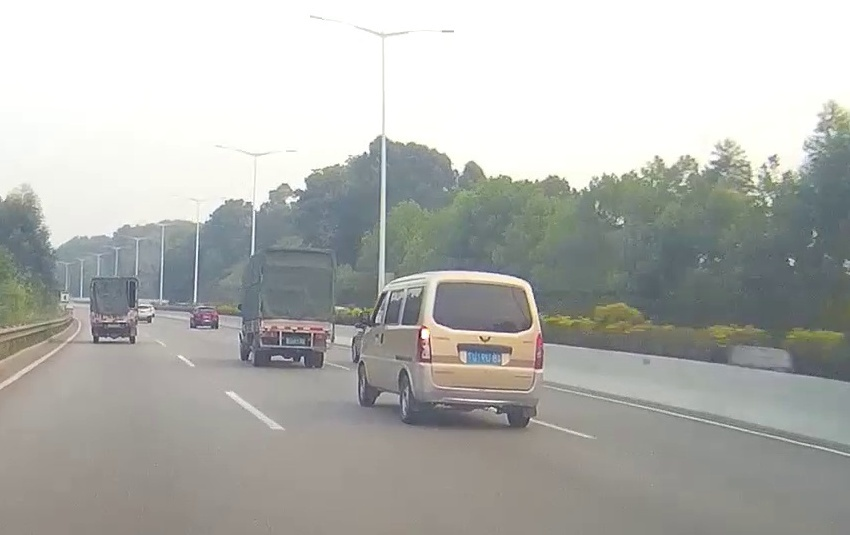L_light: (416, 325, 431, 363), (263, 331, 277, 337), (93, 323, 102, 327)
R_light: (533, 333, 543, 369), (314, 333, 329, 339), (126, 323, 135, 327)
T_light: (474, 283, 499, 290), (287, 322, 302, 326), (109, 316, 119, 319)
day-left: (414, 271, 544, 428)
day-no: (258, 246, 335, 368), (90, 277, 138, 344)
